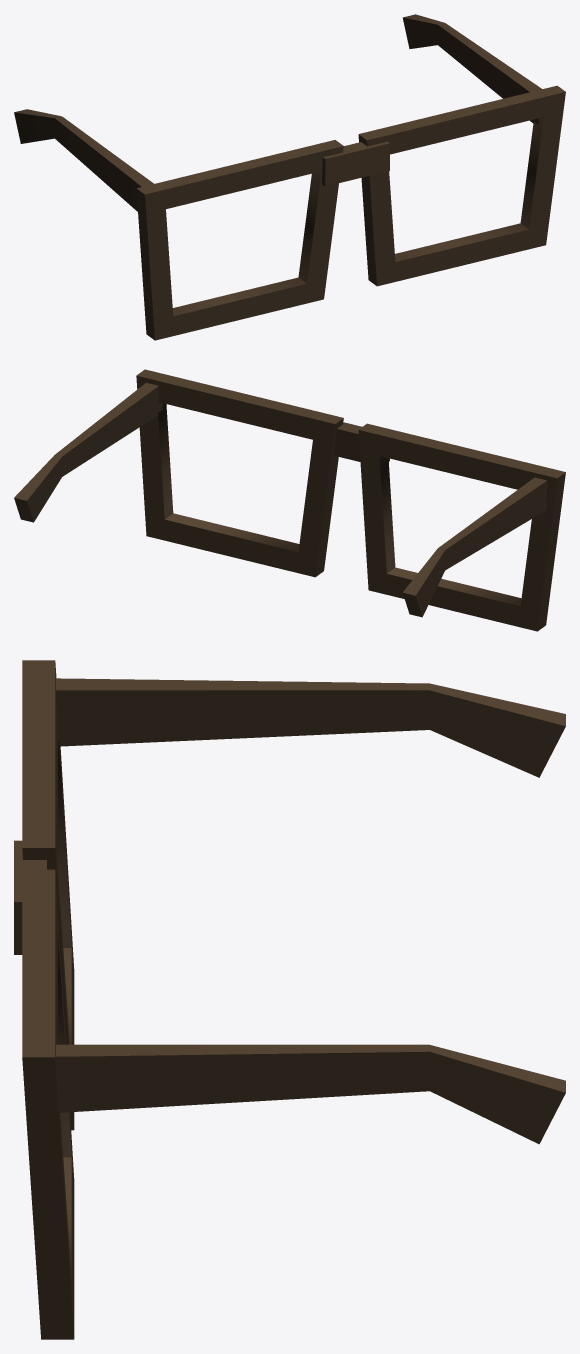
File: Item_Glasses01.FBX
3 views of the same model, one above another, from view 1: azimuth 30°, elevation 25°; view 2: azimuth 150°, elevation 25°; view 3: azimuth 270°, elevation 25° (orthographic). The views are drawn at different scales.
Parts seen in each view (by area): view 1: Item_Glasses01; view 2: Item_Glasses01; view 3: Item_Glasses01.
Part boxes in pixels (x1,y1,x2,y2): Item_Glasses01: [14, 14, 565, 340]; Item_Glasses01: [14, 369, 565, 631]; Item_Glasses01: [14, 660, 565, 1339].
Size of the model in its own units: 43.02 by 14.97 by 25.27.
